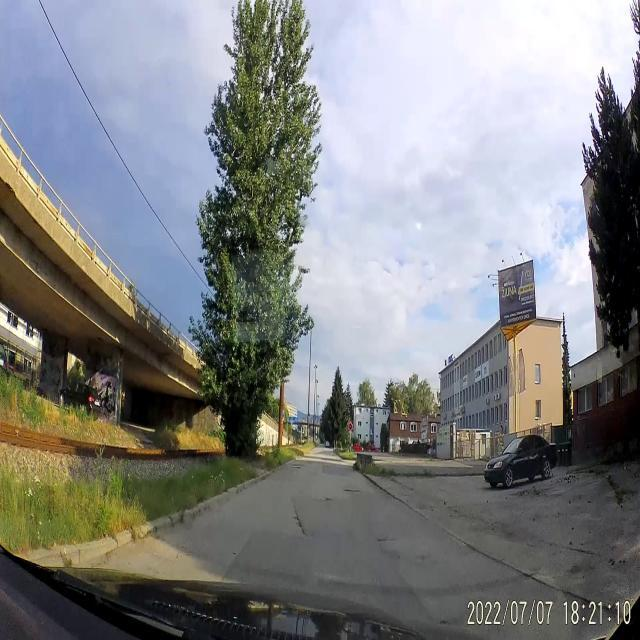Pothole: (369, 533, 398, 553), (293, 500, 305, 540), (343, 487, 360, 495)
